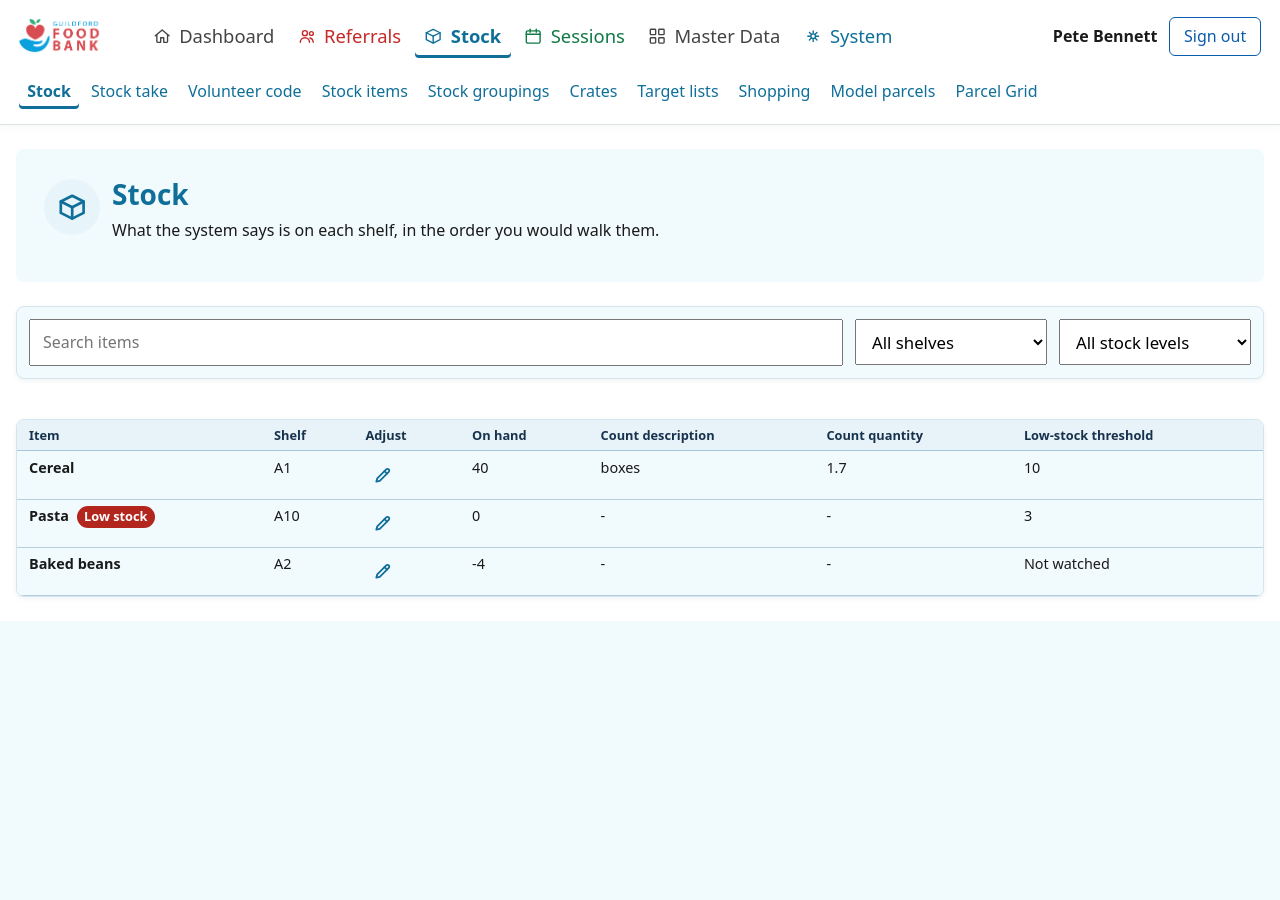
Test: stock levels › searches stock by item name without treating a shelf label as a match
This screenshot has width=1280, height=900.
Type "a10" into the search field labelled "Search items" at (436, 342), box [29, 319, 843, 366]
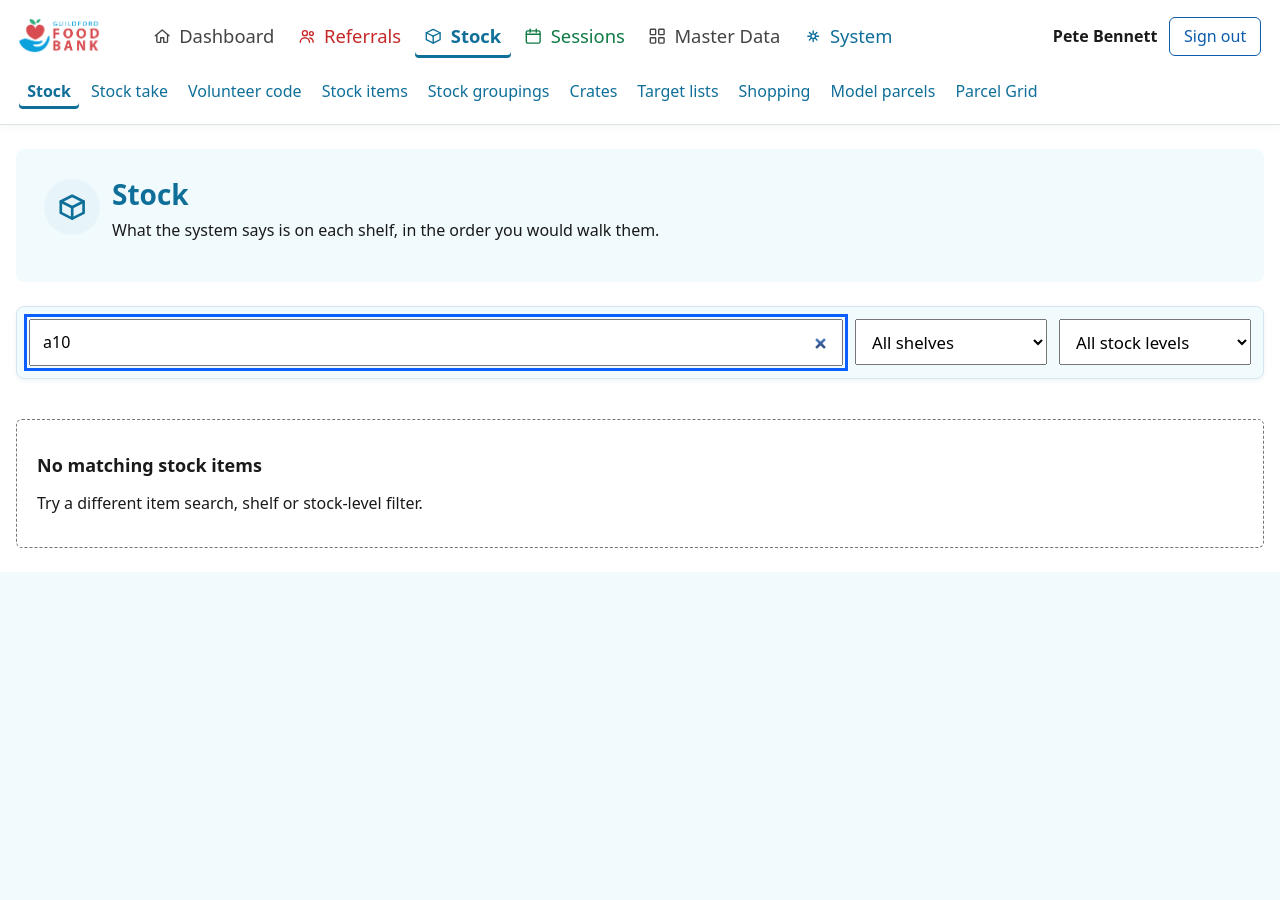
Result: the heading "No matching stock items" is shown at [37, 452, 262, 479]
Result: the column heading "Pasta" is gone
Replace the text in the search field named "Search items" with "pasta" at (436, 342), box [29, 319, 843, 366]
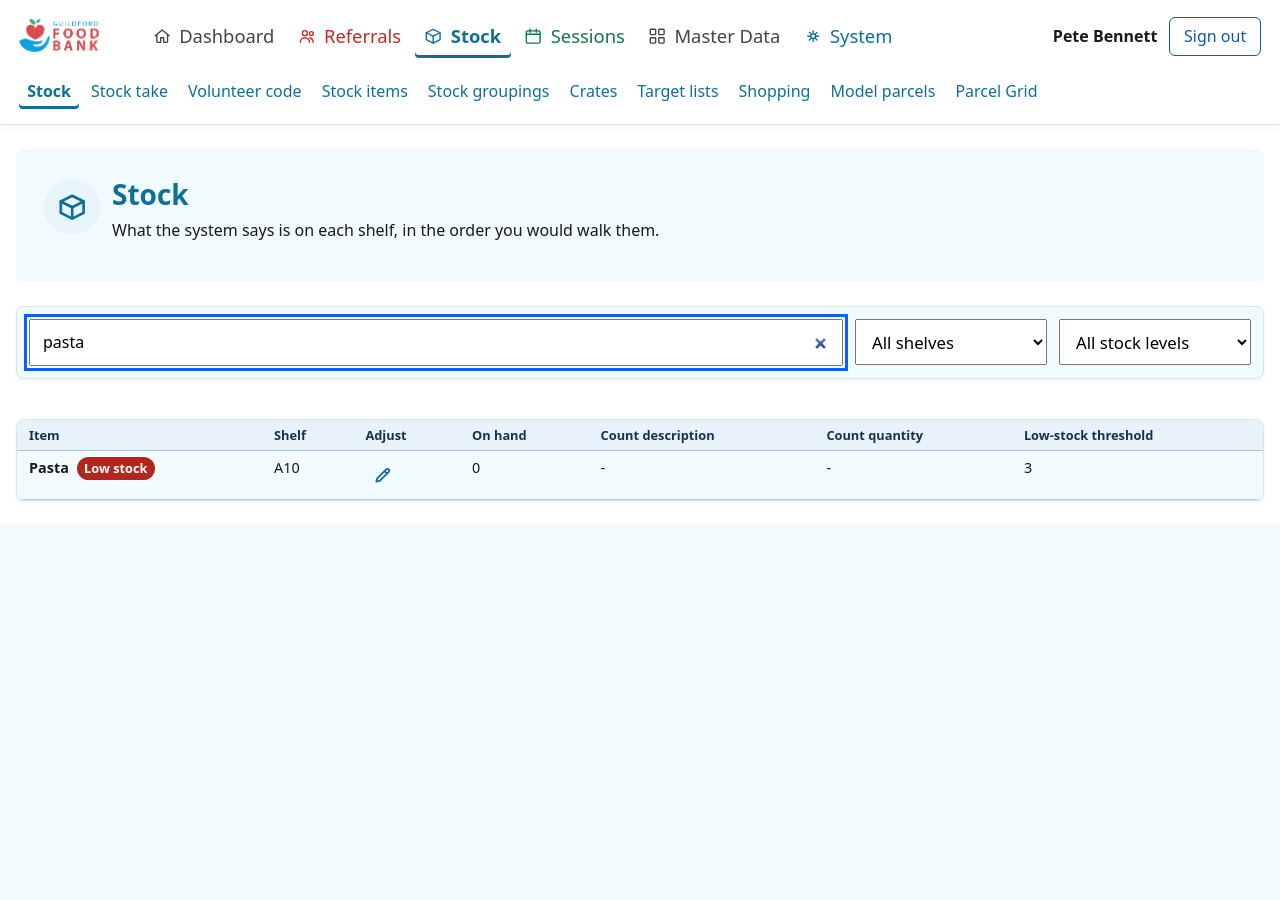
Result: the row "Pasta Low stock A10 0 - - 3" is shown at [17, 451, 1263, 499]
Result: the column heading "Cereal" is gone
